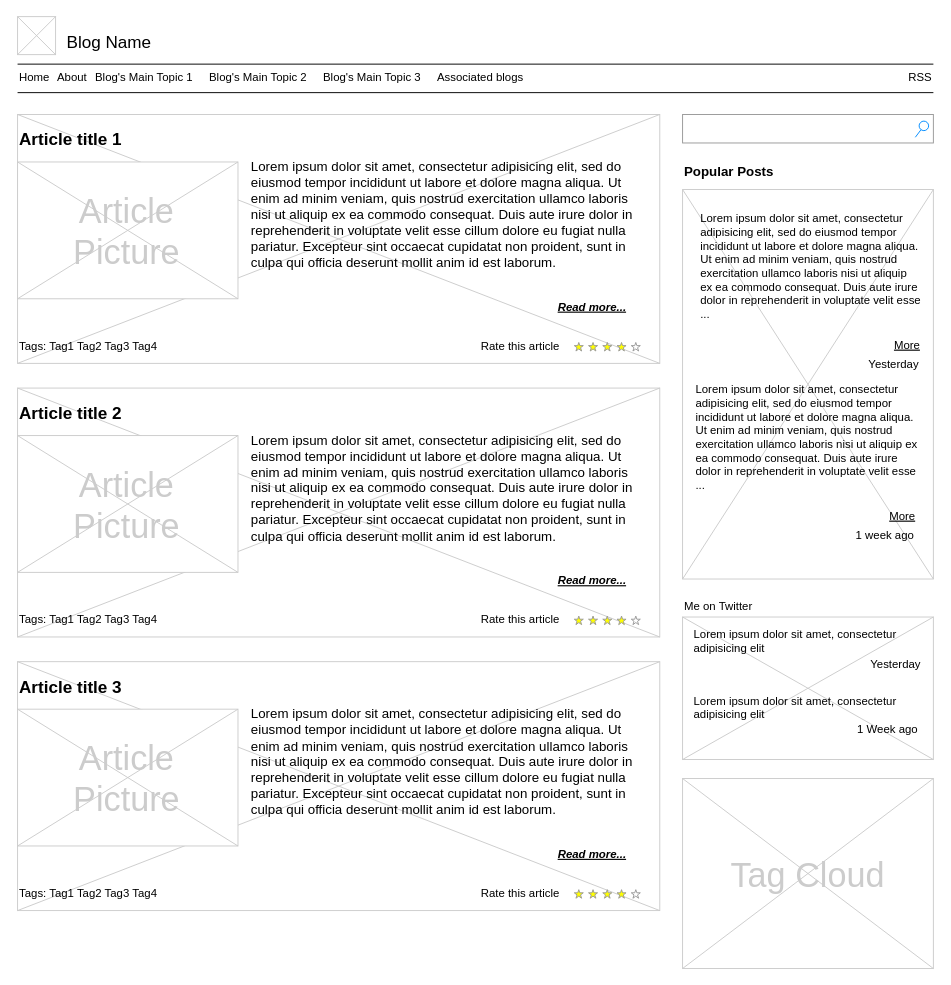
The diagram is 951 pixels wide and 985 high, and some of its shapes have lost their labels. The shapes that lost their labels are listed below. From the top down, each one's centre as x and y in pixels, then its label:
the point at 36,35: Blog Logo
the point at 807,128: Search
